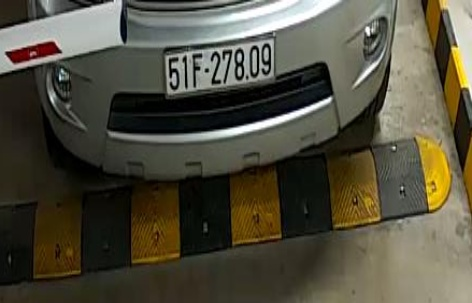plate: (162, 42, 278, 98)
